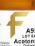Fisher: (6, 11, 30, 39)
